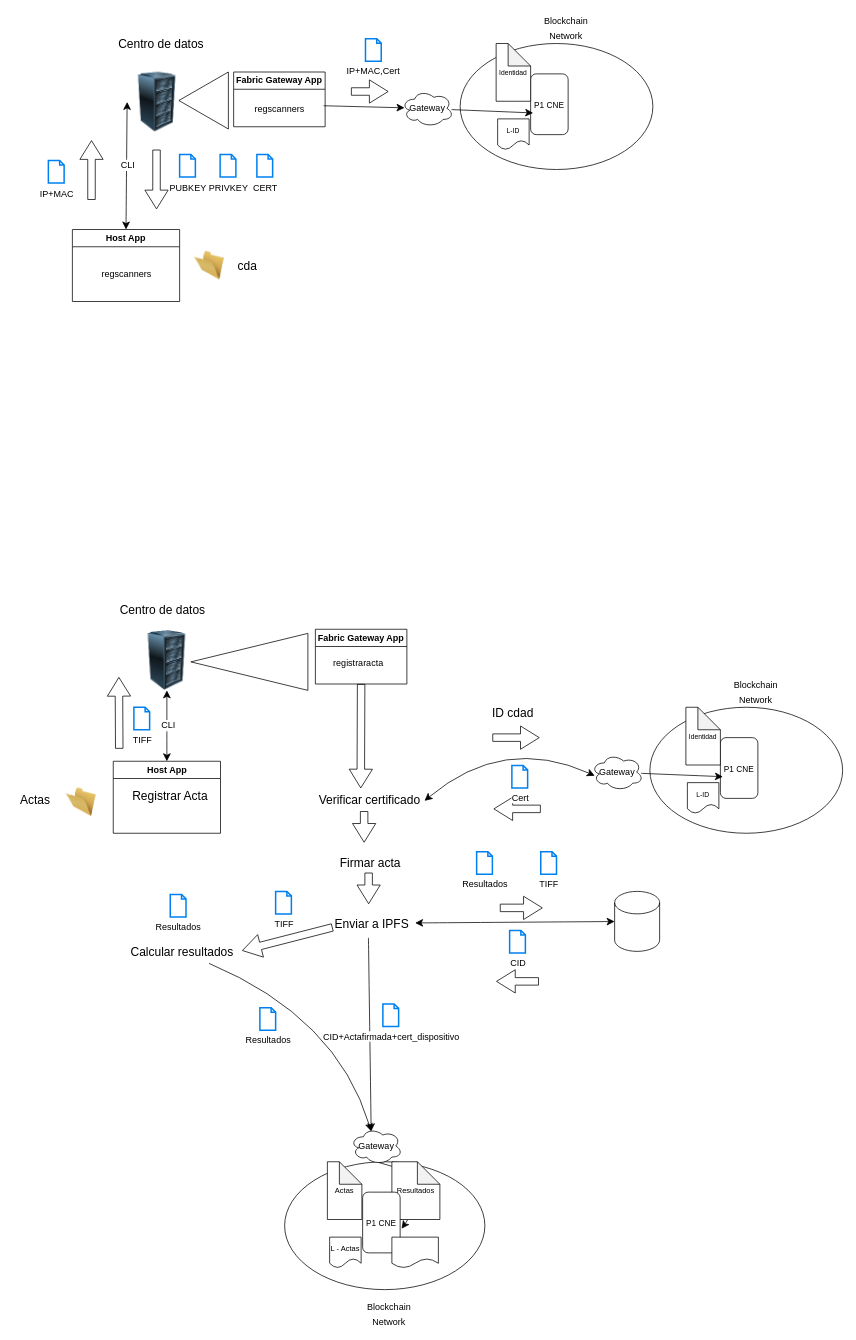
The diagram is 856 pixels wide and 1340 high, and some of its shapes have lost their labels. Here are the shapes that lost their labels. From the top down, the box of each, then its label:
(614, 891, 660, 951): IPFS
(391, 1236, 438, 1268): L - Resultados
